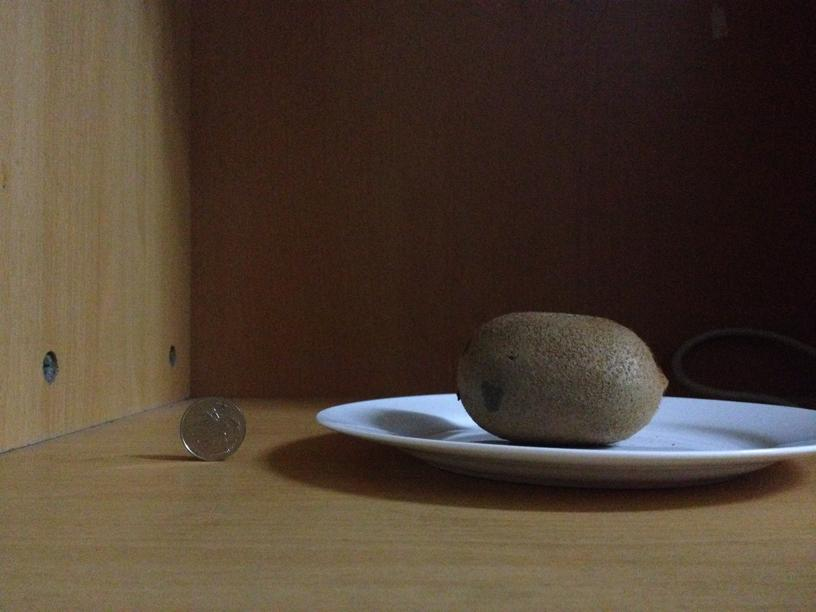coin: (180, 399, 246, 461)
qiwi: (450, 308, 666, 444)
